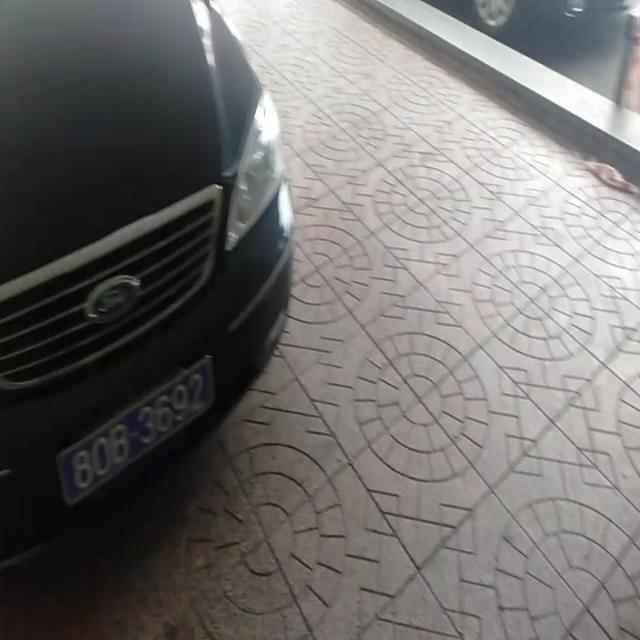bien_xanh: (50, 362, 221, 522)
